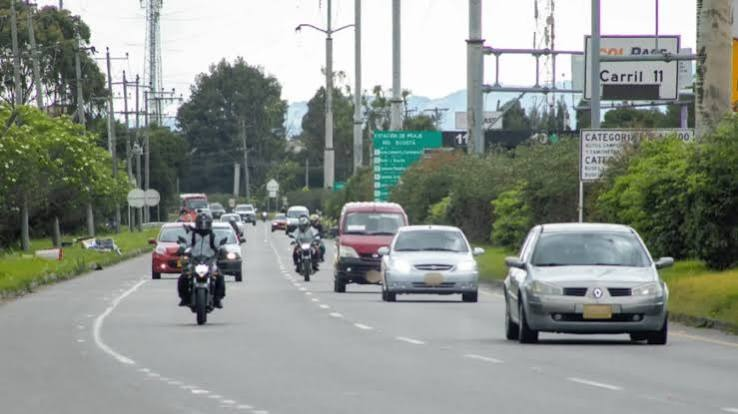car: (102, 167, 704, 320), (507, 221, 666, 347), (383, 225, 480, 304), (384, 225, 479, 304), (332, 202, 404, 286), (333, 202, 404, 287), (176, 245, 234, 320), (177, 262, 222, 320), (287, 227, 324, 277)
